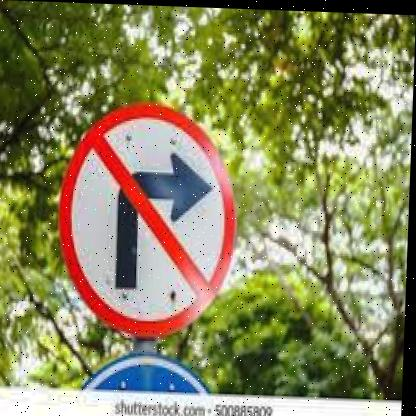No right turn: (53, 97, 240, 344)
